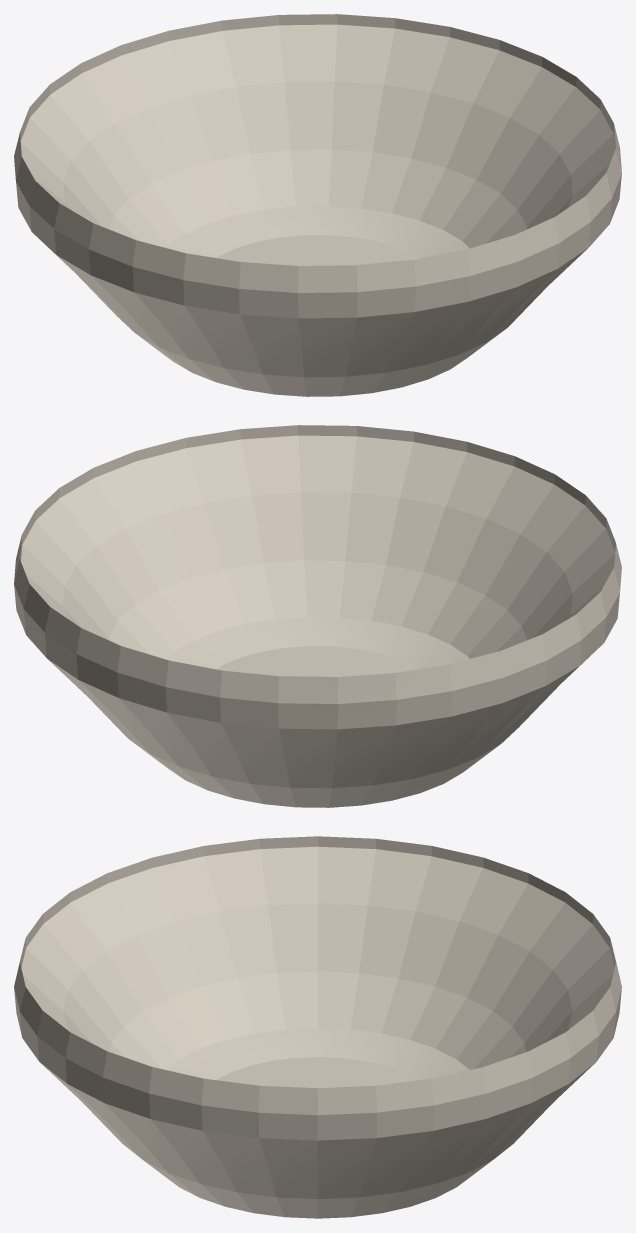
File: Salandier2.fbx
3 renders of one model, top to bottom at view 1: azimuth 30°, elevation 25°; view 2: azimuth 150°, elevation 25°; view 3: azimuth 270°, elevation 25°, orthographic.
Visible parts, largest first — view 1: Saladier2; view 2: Saladier2; view 3: Saladier2.
Boxes of the visible parts, x1,y1,x2,y2 form: Saladier2: [14, 14, 621, 396]; Saladier2: [14, 425, 621, 807]; Saladier2: [14, 836, 621, 1218].
Size of the model in its own units: 22.1 by 7.87 by 22.1.
Materials: 1 (1 with a texture image).
